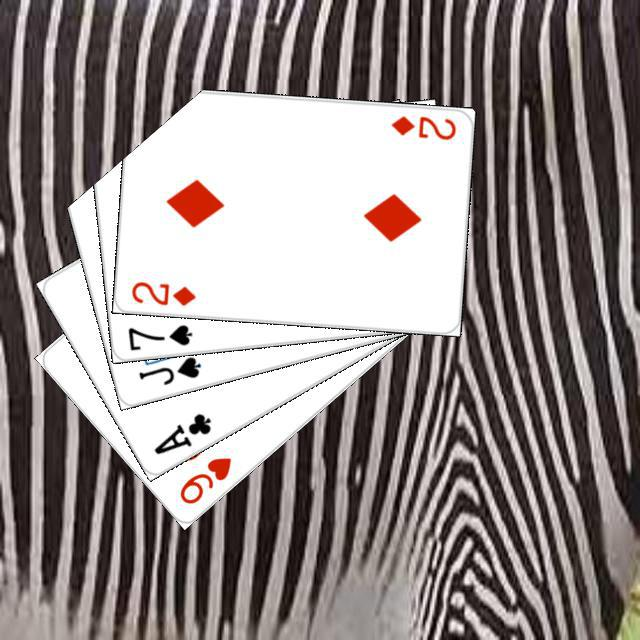2d: (387, 110, 458, 142), (126, 277, 198, 308)
7s: (123, 320, 194, 352)
9h: (174, 452, 234, 506)
Ac: (148, 408, 213, 456)
Js: (133, 351, 203, 387)
